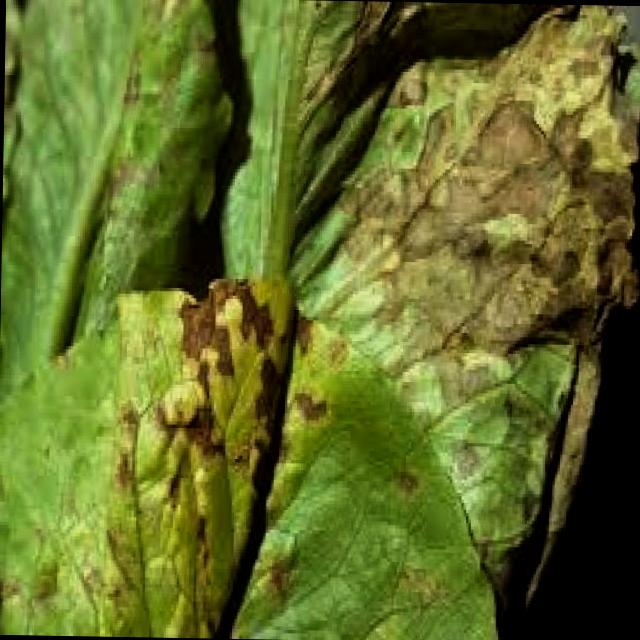Septoria_Blight: (34, 277, 444, 632), (357, 66, 636, 280)
